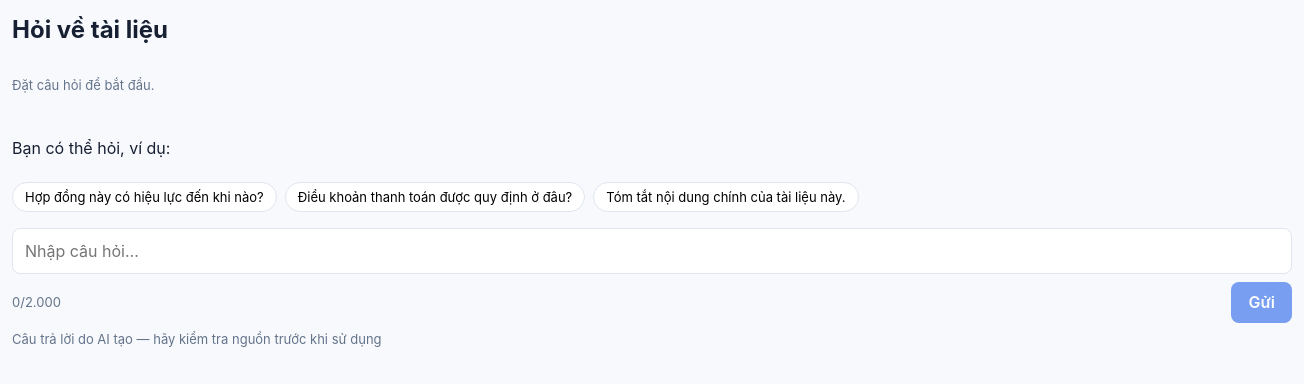
Scenario: ChatPage › AC-013.1/AC-014.4: done.type=not_found → NotFoundMessage, không thẻ nguồn
Type "Câu hỏi không có đáp án nào cả" into the text box with test id "question-input" at {"x": 652, "y": 251}, box left=12, top=228, right=1292, bottom=274
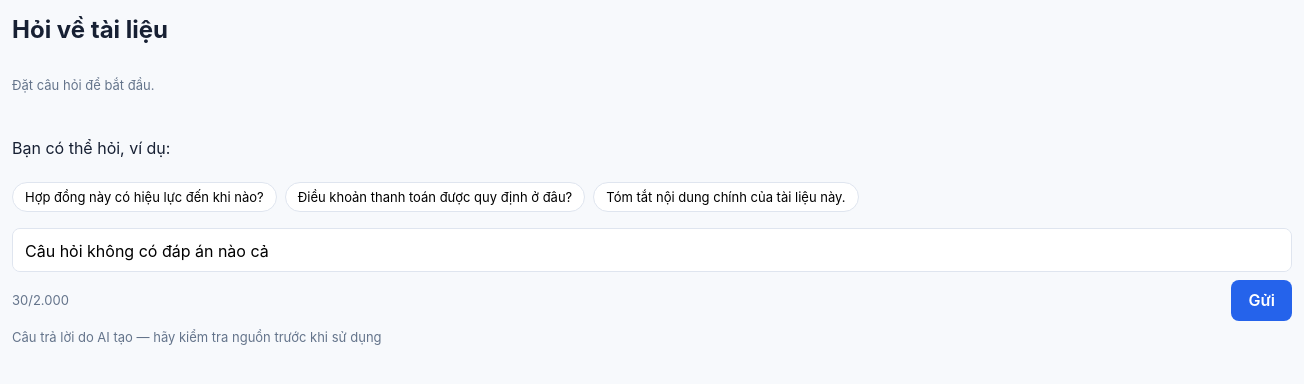
Click the button with test id "send-button" at {"x": 1262, "y": 300}, box left=1232, top=280, right=1292, bottom=321
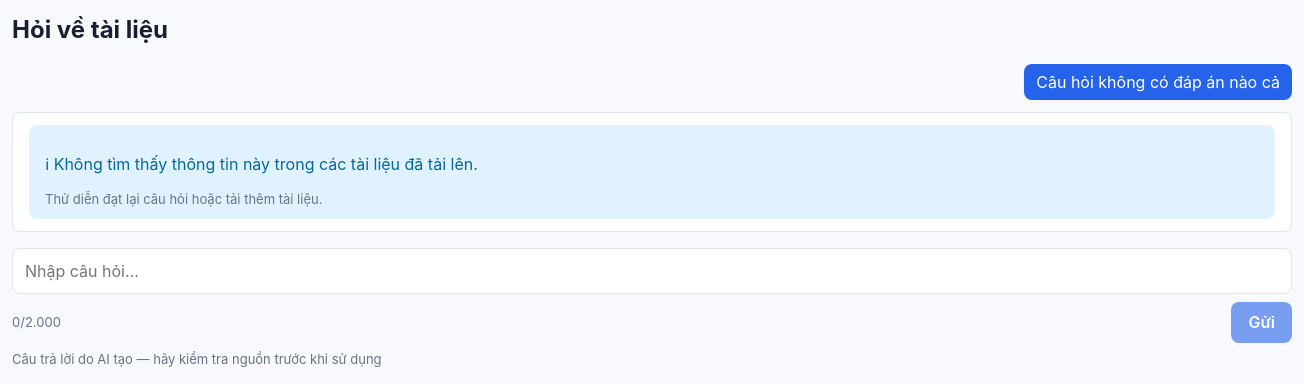
Expected: the message with test id "not-found-message" is shown, left=29, top=125, right=1275, bottom=219
